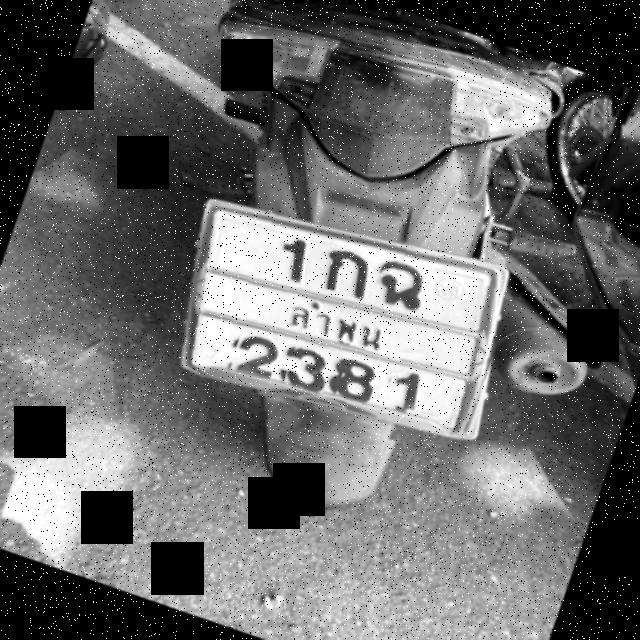letters: (315, 240, 389, 304), (371, 254, 437, 320), (228, 317, 286, 385), (260, 233, 322, 289), (282, 335, 336, 396), (383, 366, 444, 419), (334, 356, 381, 408)
license-plate: (194, 203, 504, 438)
province: (278, 286, 412, 361)
